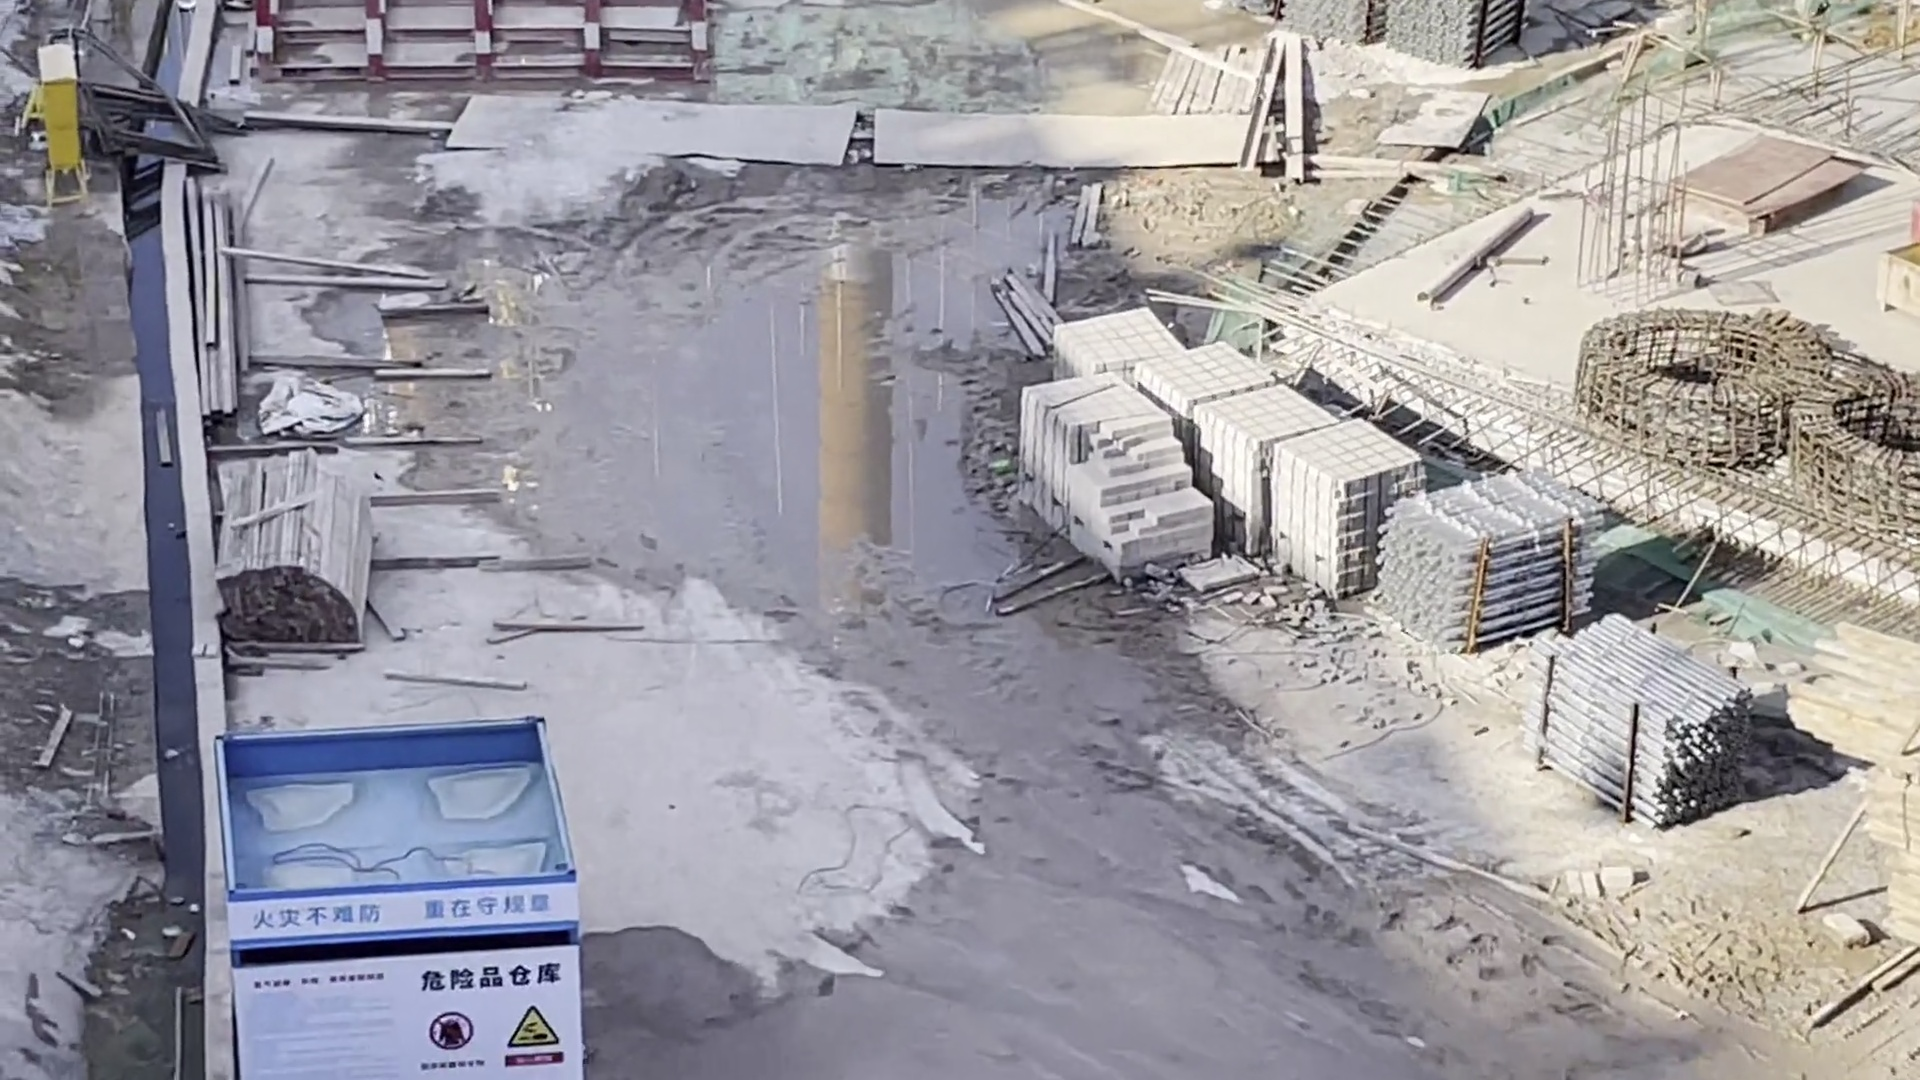board: (1691, 133, 1832, 227)
brick: (1023, 334, 1393, 582)
ebox: (36, 38, 83, 189)
scaffold: (1534, 622, 1754, 816), (1383, 468, 1590, 632), (1288, 1, 1532, 62)
slogan: (243, 891, 556, 928), (415, 1011, 582, 1080)
wood: (222, 462, 373, 649)
